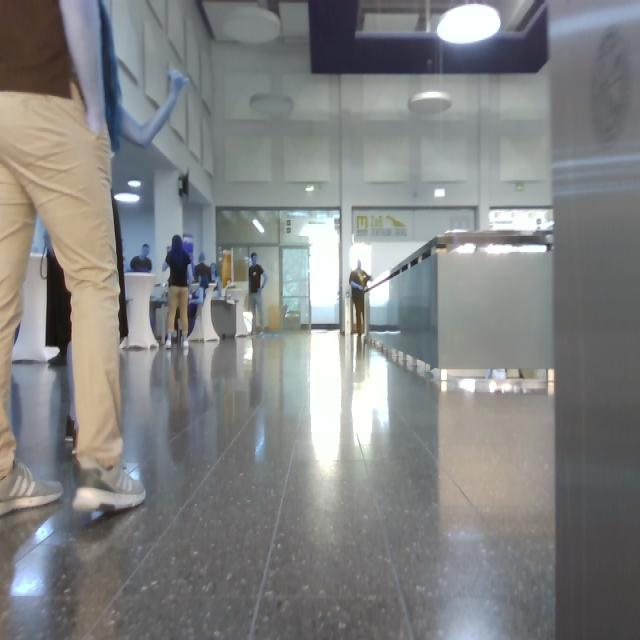desk: (212, 300, 238, 338)
door: (217, 210, 340, 330)
light bulb: (217, 4, 281, 45), (438, 4, 501, 45), (252, 94, 294, 116), (409, 92, 450, 114), (115, 193, 140, 202), (255, 218, 264, 234)
person: (1, 1, 145, 516), (100, 1, 186, 162), (46, 233, 76, 452), (164, 236, 191, 344), (112, 185, 128, 341), (189, 254, 213, 334), (350, 261, 371, 337), (250, 254, 268, 333), (131, 244, 152, 272), (196, 254, 212, 289)
staircase: (366, 232, 554, 392)
table: (126, 273, 159, 348), (192, 285, 219, 341), (227, 289, 252, 337)
tiled floor: (1, 332, 554, 640)
